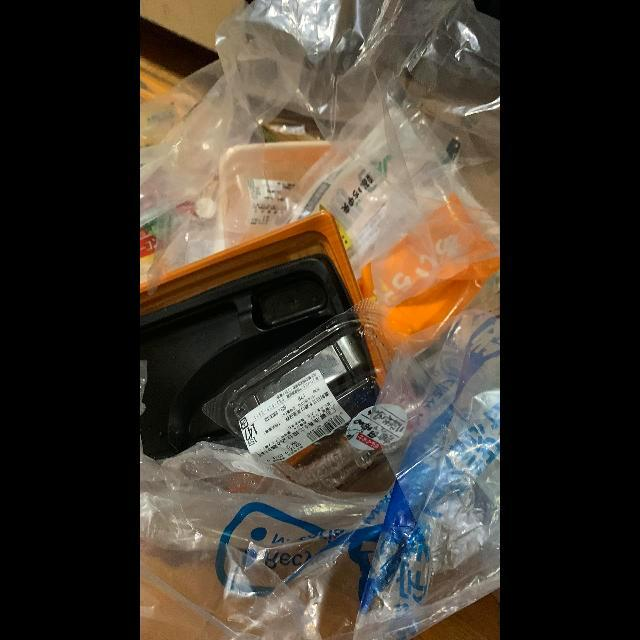plastic_container: (203, 300, 444, 485), (140, 253, 353, 459)
